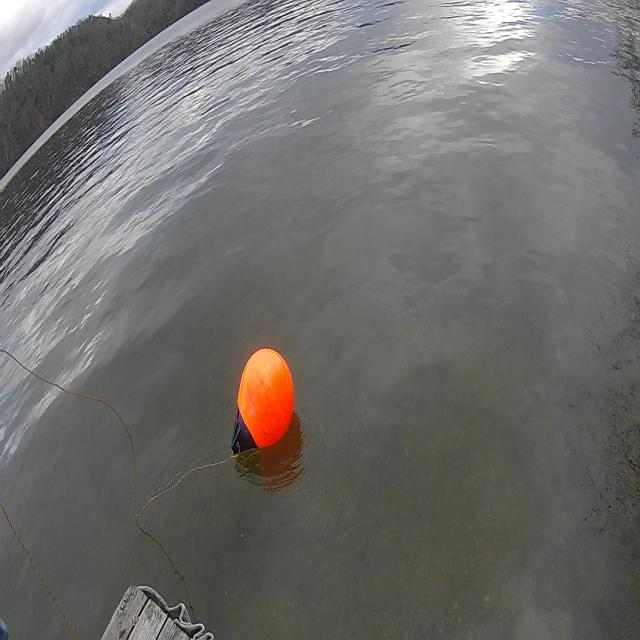Buoy: (221, 333, 300, 464)
